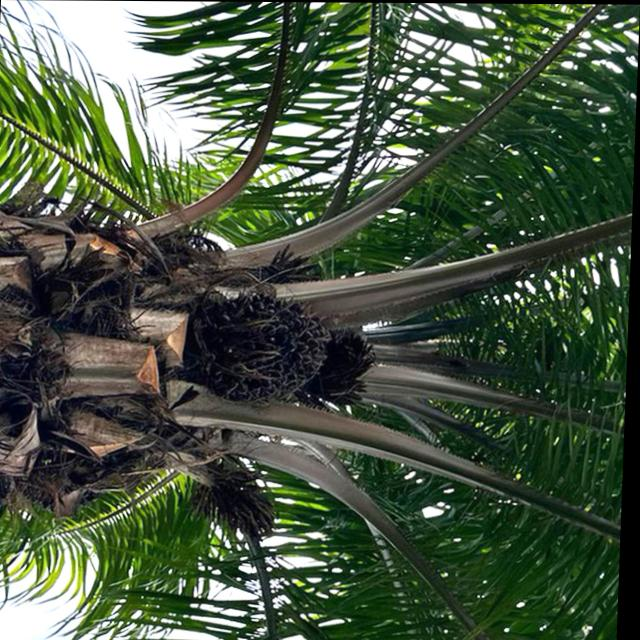ripe: (186, 269, 344, 428)
